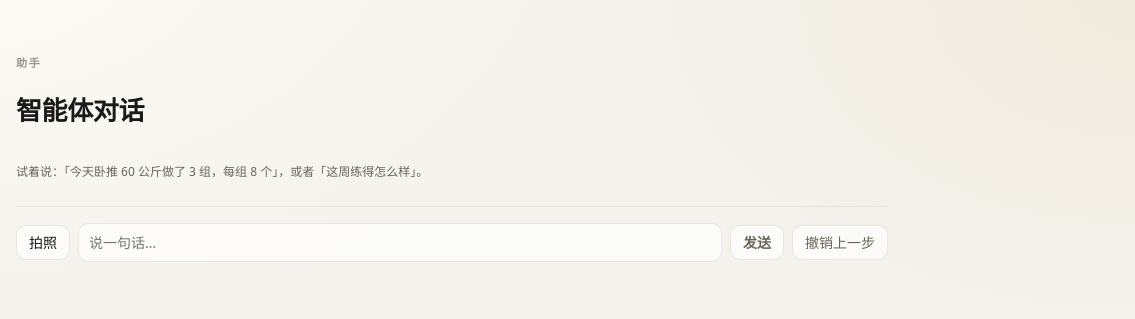
智能体对话页 › 失败时把原因显示出来，且不留下半条假回答
Type "你好" into the field with placeholder "说一句话…" at [400, 242], box [78,223,722,262]
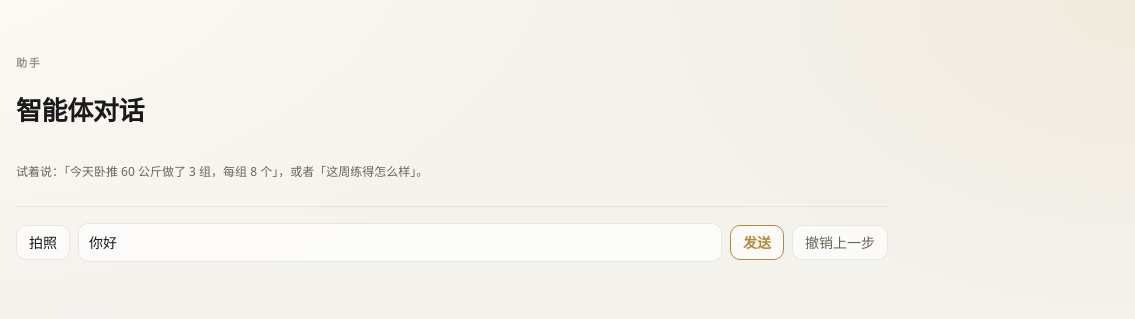
Click the button "发送" at [757, 242], box [730,225,784,260]
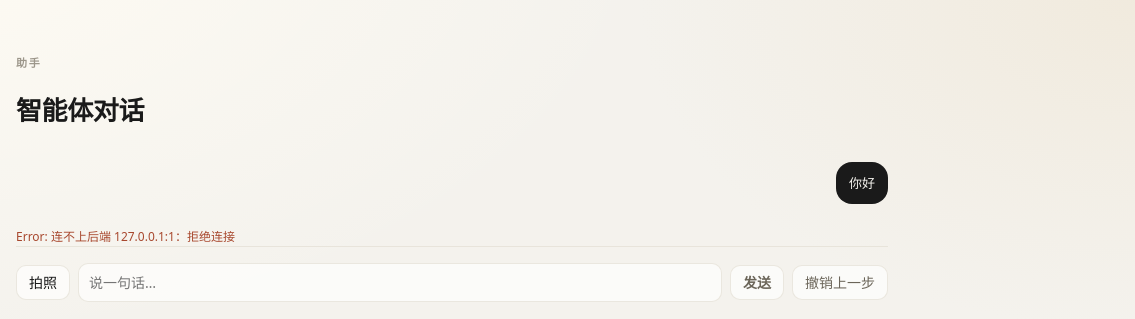
Expected: the text "连不上" is shown, [16,228,235,245]
